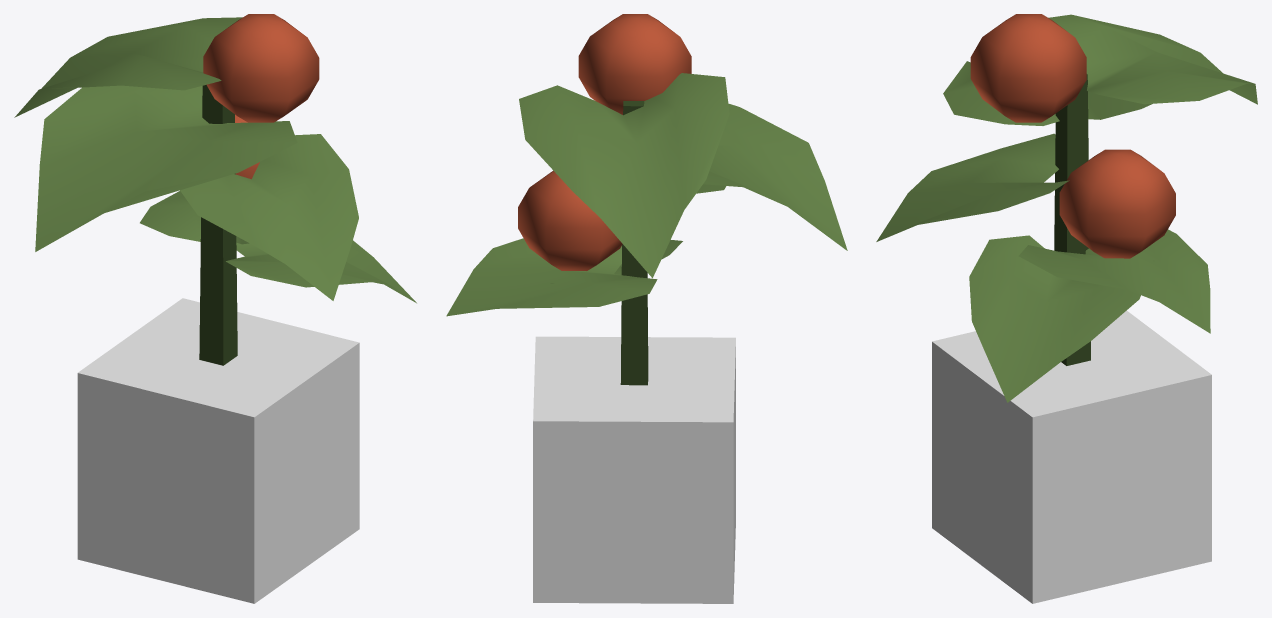
Rendered from plant7.fbx.
The picture shows the model from 3 angles, left to right: view 1: azimuth 30°, elevation 25°; view 2: azimuth 150°, elevation 25°; view 3: azimuth 270°, elevation 25°; orthographic projection. The views are drawn at different scales.
Parts seen in each view (by area): view 1: plant7, plant.007; view 2: plant.007, plant7; view 3: plant.007, plant7.
Part boxes in pixels (x1,y1,x2,y2): plant7: (77, 298, 359, 603); plant.007: (14, 14, 416, 365); plant.007: (446, 14, 847, 385); plant7: (533, 336, 735, 603); plant.007: (876, 14, 1257, 402); plant7: (932, 310, 1211, 603).
Bounding box in the file's own units: 84.7 × 118 × 76.09.
